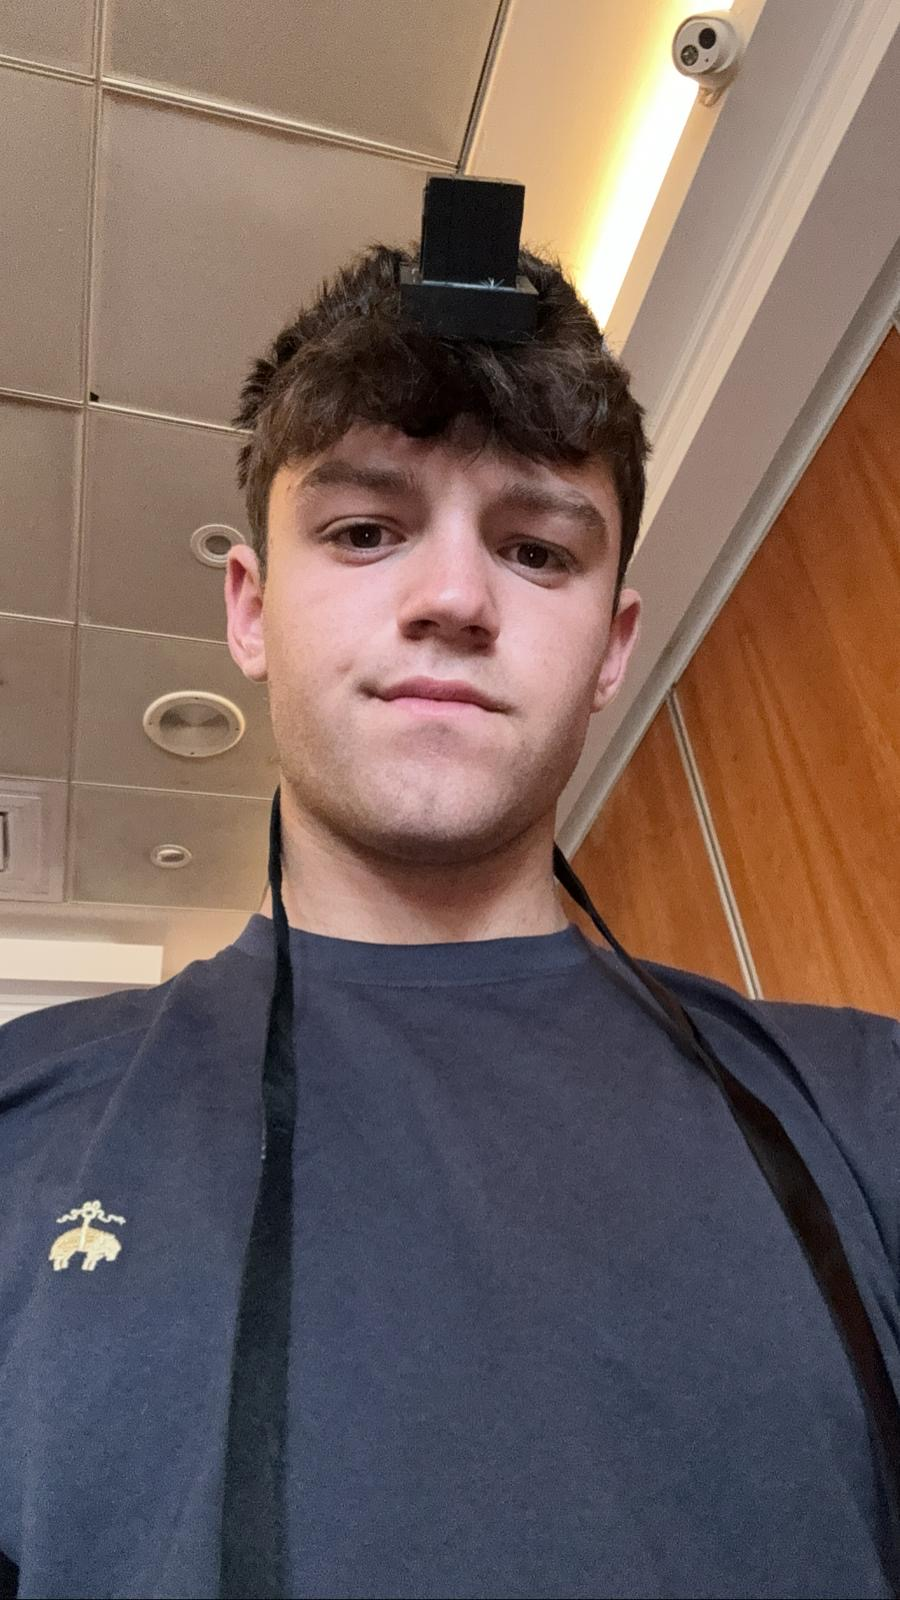tefillin: (398, 177, 542, 329)
